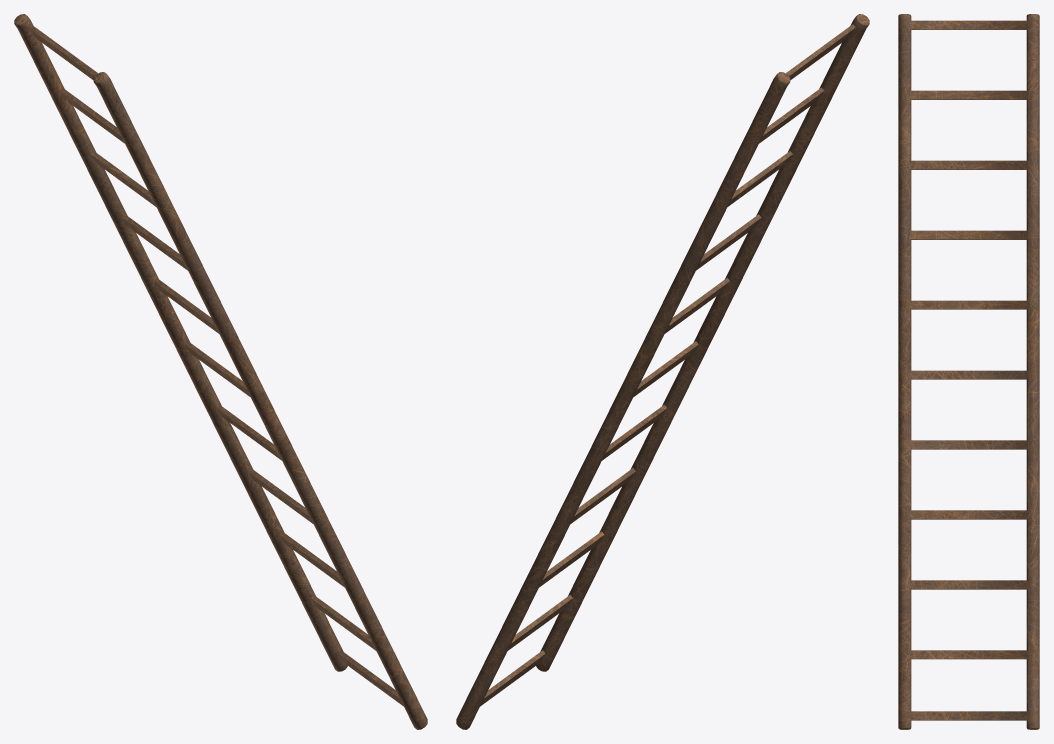
Rendered from escada 1.fbx.
3 views of the same model, side by side, from view 1: azimuth 30°, elevation 25°; view 2: azimuth 150°, elevation 25°; view 3: azimuth 270°, elevation 25° (orthographic). The views are drawn at different scales.
Visible parts, largest first — view 1: escada; view 2: escada; view 3: escada.
Part boxes in pixels (x1,y1,x2,y2): escada: (14,14,427,729); escada: (456,14,869,729); escada: (898,14,1039,729).
Size of the model in its own units: 139 by 292 by 63.05.
Materials: 1 (1 with a texture image).
